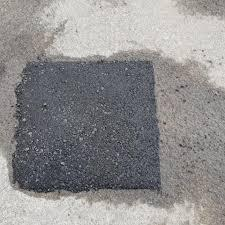pothole: (10, 55, 169, 200)
